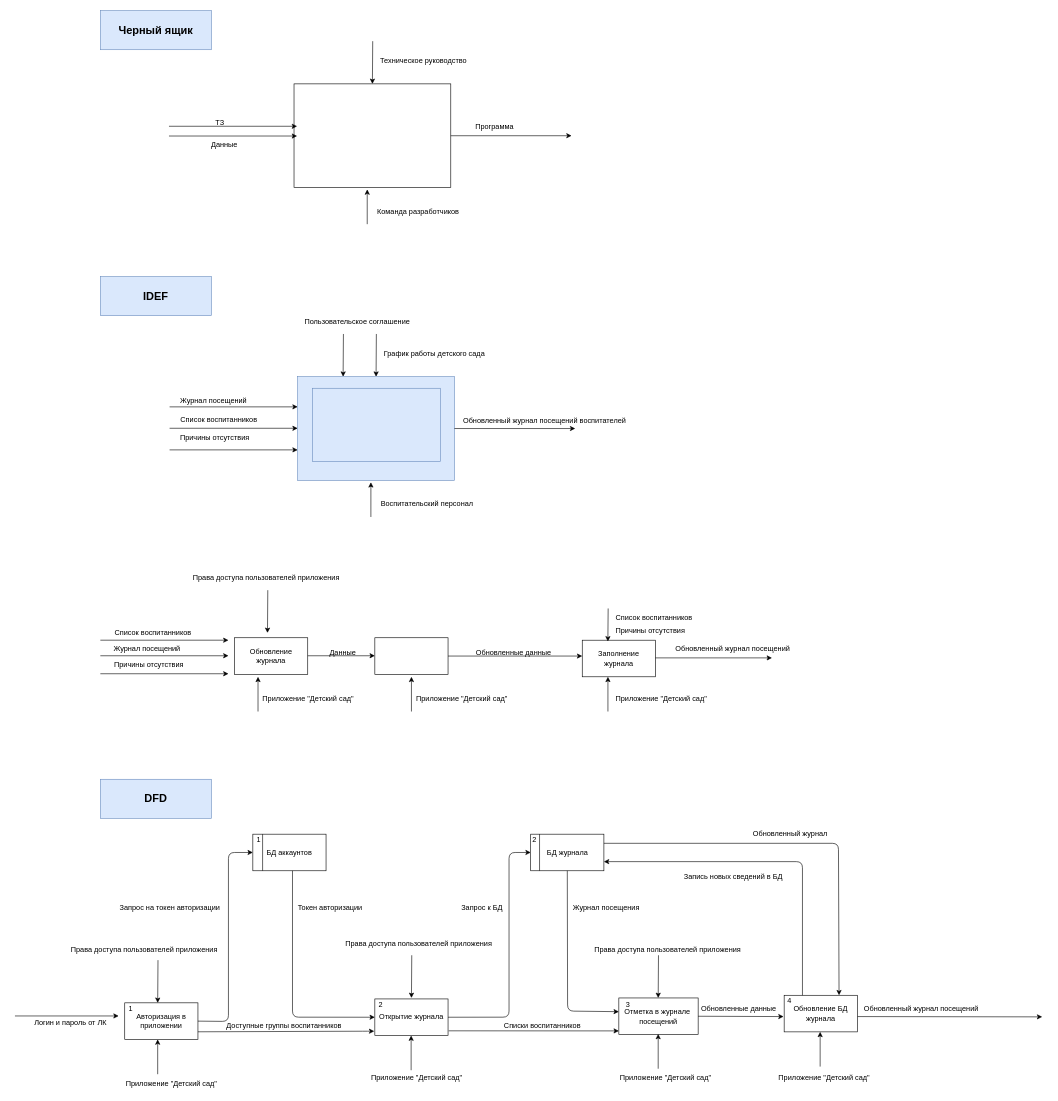
This 1058x1101 diagram has some shape labels left out. Here are the shapes that lost their labels. From the top down, the centre of each, then its label:
pixel 372 135: Создание программы "Детский сад"
pixel 376 424: Обновление журнала посещений воспитателем
pixel 411 655: Обработка данных
